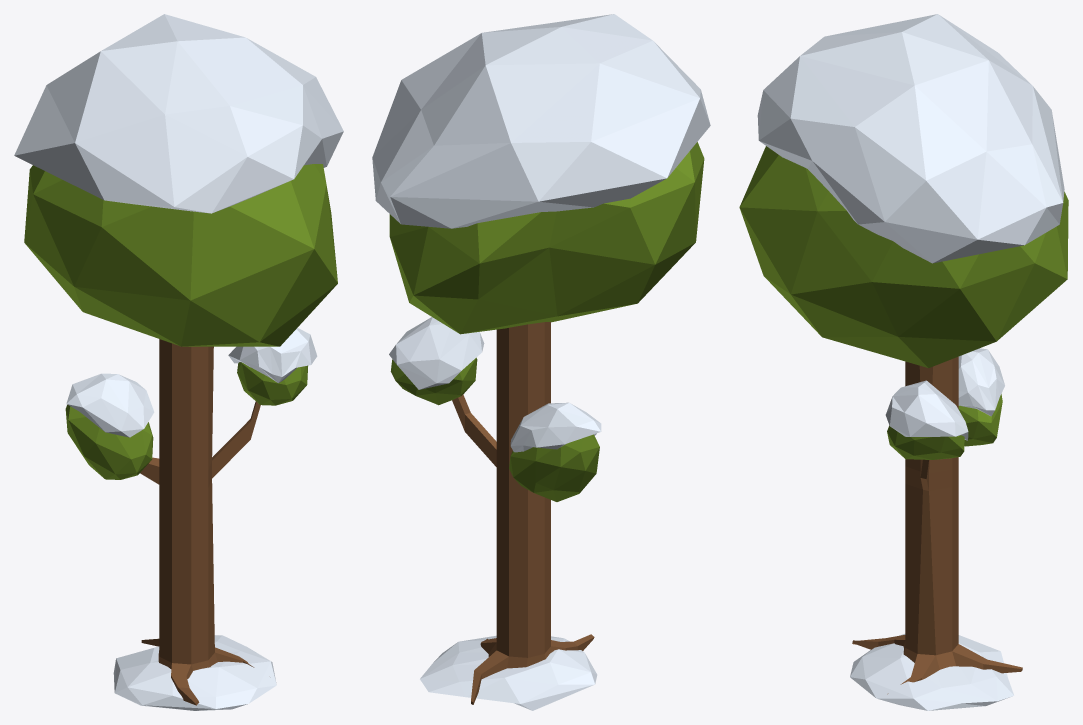
The model's file is Tree1.fbx.
3 renders of one model, left to right at view 1: azimuth 30°, elevation 25°; view 2: azimuth 150°, elevation 25°; view 3: azimuth 270°, elevation 25°, orthographic. The views are drawn at different scales.
Visible parts, largest first — view 1: Icosphere.008, Icosphere.002, Cylinder.002, Icosphere.019, Icosphere.011, Icosphere.004, Icosphere.012, Icosphere.003; view 2: Icosphere.008, Icosphere.002, Cylinder.002, Icosphere.019, Icosphere.012, Icosphere.004, Icosphere.011, Icosphere.003; view 3: Icosphere.008, Icosphere.002, Cylinder.002, Icosphere.019, Icosphere.012, Icosphere.011, Icosphere.003, Icosphere.004.
Boxes of the visible parts, x1,y1,x2,y2 form: Icosphere.008: [14, 14, 343, 213]; Icosphere.002: [24, 164, 337, 346]; Cylinder.002: [140, 339, 260, 705]; Icosphere.019: [113, 635, 276, 710]; Icosphere.011: [66, 373, 154, 437]; Icosphere.004: [65, 405, 153, 479]; Icosphere.012: [228, 328, 317, 382]; Icosphere.003: [237, 362, 307, 405]; Icosphere.008: [372, 14, 710, 228]; Icosphere.002: [389, 142, 704, 334]; Cylinder.002: [452, 322, 594, 704]; Icosphere.019: [420, 635, 597, 710]; Icosphere.012: [389, 317, 484, 389]; Icosphere.004: [509, 434, 599, 501]; Icosphere.011: [510, 402, 601, 452]; Icosphere.003: [390, 357, 477, 405]; Icosphere.008: [757, 14, 1064, 263]; Icosphere.002: [739, 146, 1068, 368]; Cylinder.002: [852, 356, 1022, 694]; Icosphere.019: [850, 634, 1013, 710]; Icosphere.012: [885, 380, 968, 440]; Icosphere.011: [958, 348, 1004, 416]; Icosphere.003: [887, 425, 964, 459]; Icosphere.004: [958, 394, 1002, 446].
Size of the model in its own units: 395 by 840 by 396.
